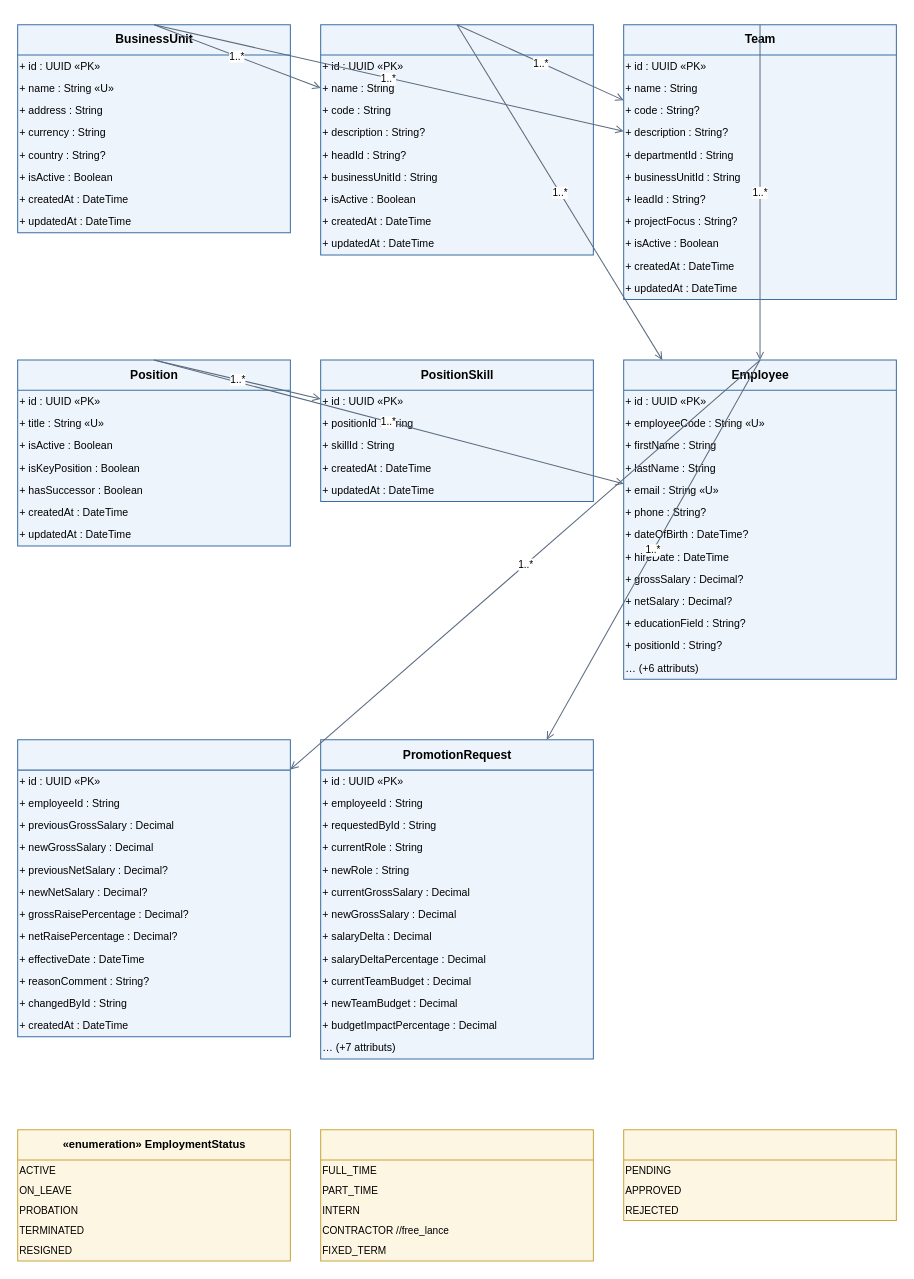
The diagram is 914 pixels wide and 1279 high, and some of its shapes have lost their labels. The box of each missing label's shape, as (x1, y1, x2, y2) in pixels:
Department: (320, 24, 593, 255)
SalaryHistory: (17, 739, 290, 1037)
«enumeration» ContractType: (320, 1129, 593, 1261)
«enumeration» PromotionRequestStatus: (623, 1129, 896, 1221)
